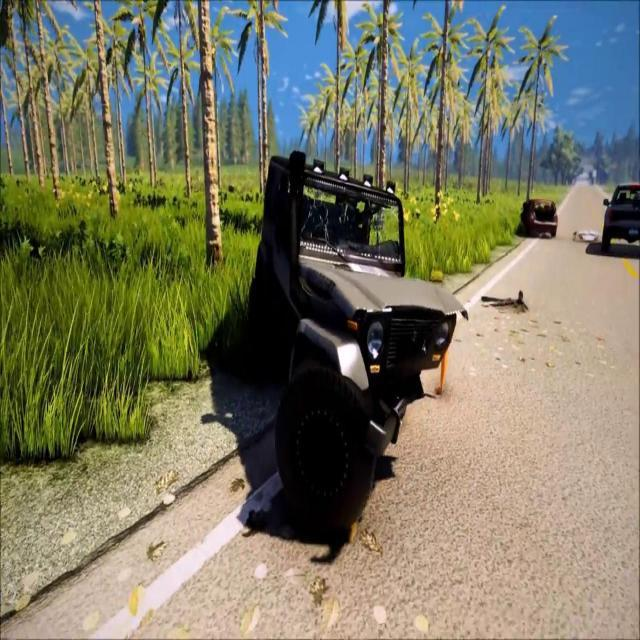severe: (251, 148, 463, 560)
